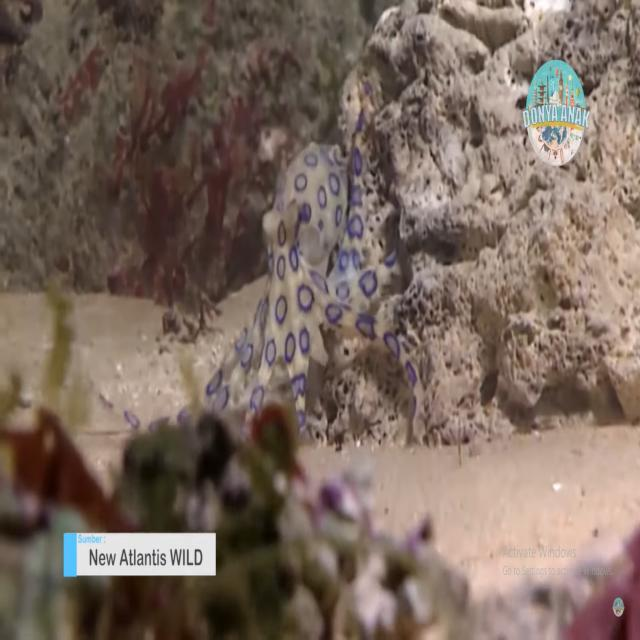blue_ringed_octopus: (89, 54, 427, 442)
